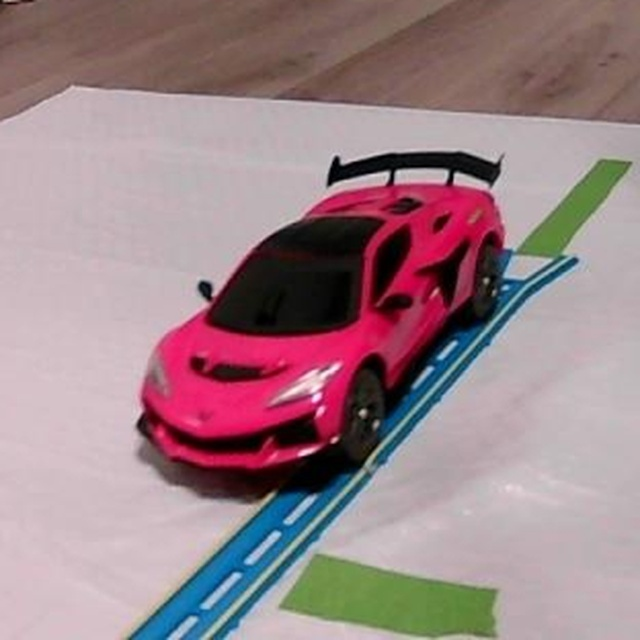tire_front_driver: (335, 365, 390, 465)
tire_rear_driver: (470, 250, 505, 320)
